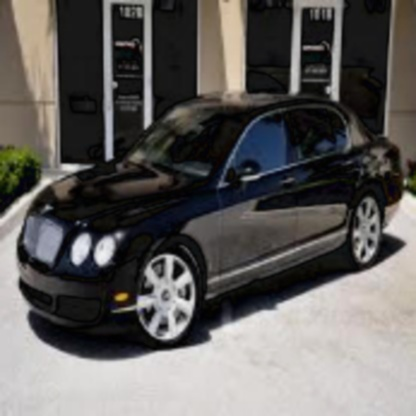Vehicle: (14, 89, 410, 354)
